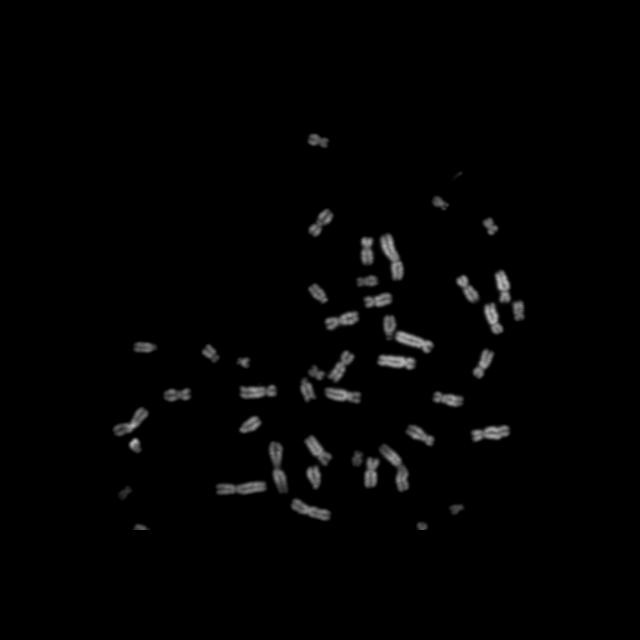chromosome: (379, 443, 409, 492), (380, 233, 404, 281), (113, 407, 149, 437), (269, 441, 289, 495), (290, 498, 332, 520), (394, 331, 434, 354), (305, 434, 333, 466), (329, 350, 355, 382), (216, 480, 266, 496), (326, 310, 360, 332), (309, 208, 333, 238), (471, 425, 509, 443), (482, 302, 503, 334), (457, 274, 479, 304), (377, 354, 418, 370), (406, 424, 434, 446), (324, 387, 362, 403), (474, 348, 494, 378), (494, 271, 512, 303), (240, 384, 276, 400), (432, 390, 463, 408), (364, 292, 394, 310), (359, 236, 375, 268), (364, 457, 380, 489), (239, 414, 261, 434), (308, 131, 330, 151), (300, 377, 316, 403), (306, 464, 322, 490), (308, 284, 328, 304), (164, 388, 192, 402), (382, 314, 396, 340), (202, 343, 220, 362), (132, 341, 158, 354), (484, 218, 501, 236), (512, 301, 526, 321), (118, 484, 132, 502), (351, 450, 364, 468), (434, 196, 448, 212), (309, 366, 325, 380), (128, 438, 142, 454), (356, 276, 378, 286), (236, 356, 250, 370)
